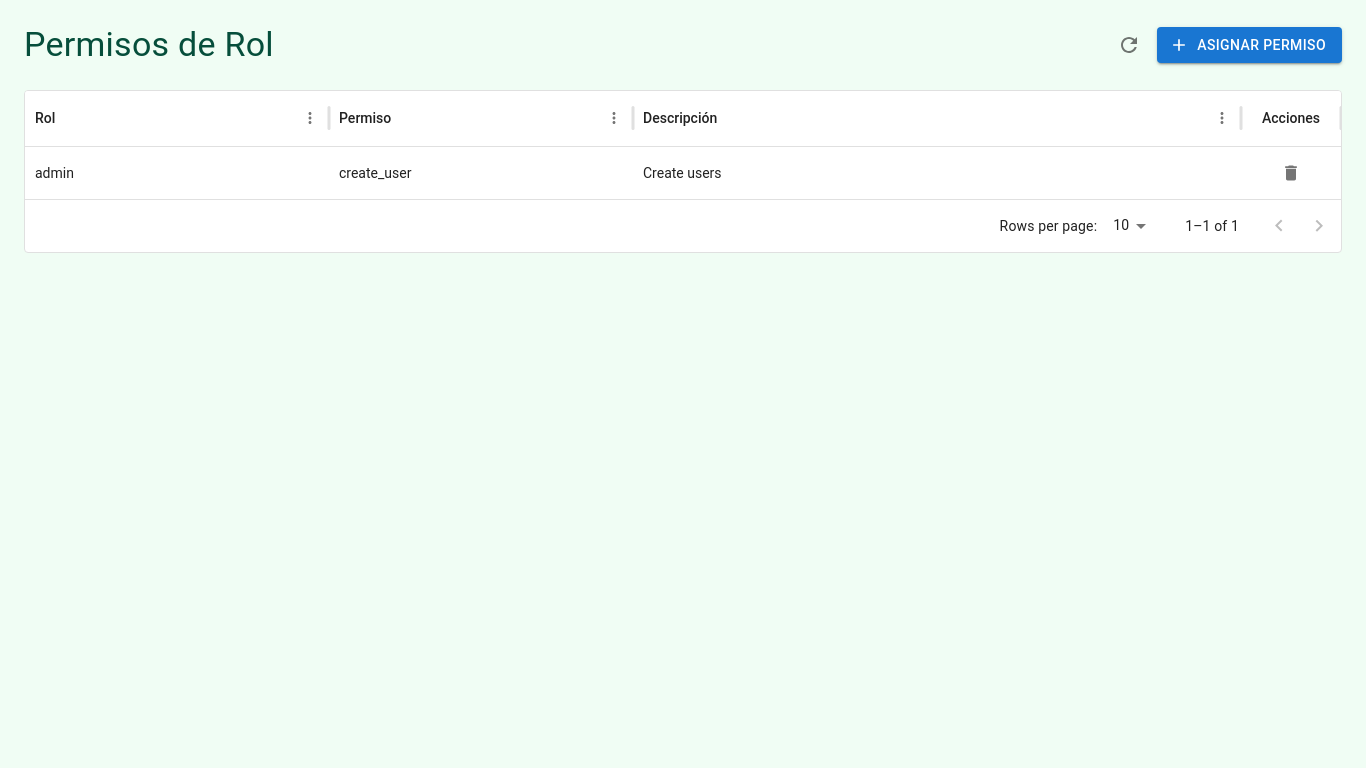
Test: RolePermissions Page › Delete Role Permission › should open delete confirmation dialog when delete button is clicked
This screenshot has width=1366, height=768.
Expected: the text "admin" is shown, [35,165,74,181]
What coordinates should you click on to do the following:
click the menu item with test id "DeleteIcon"
I would click on:
 (1291, 174)
Its box is [1276,158,1306,188].
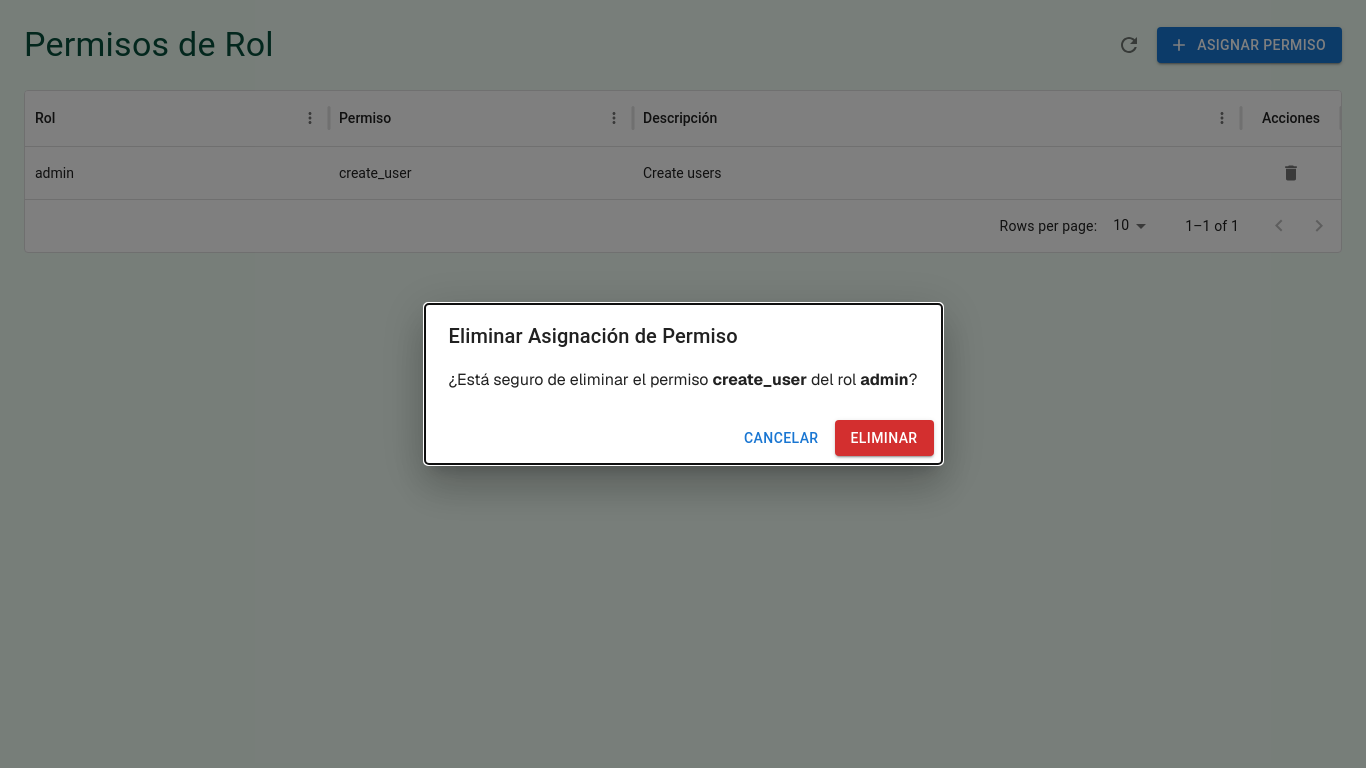
Now the heading "Eliminar Asignación de Permiso" is shown, box [448,324,738,348]
Now the text "¿Está seguro de eliminar el permiso" is shown, box [448,369,708,390]
Now the text "create_user" is shown, box [713,369,807,390]
